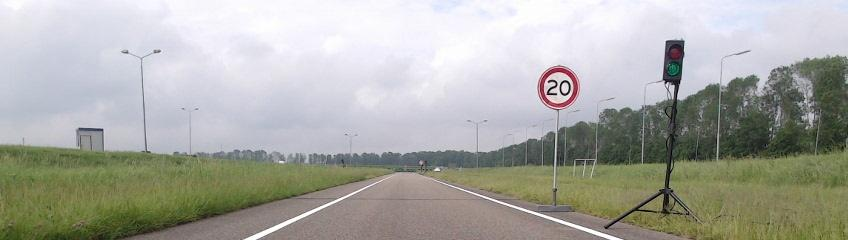Speed-limit-20km-h-: (537, 65, 580, 111)
TrafficLight-green: (663, 40, 684, 81)
